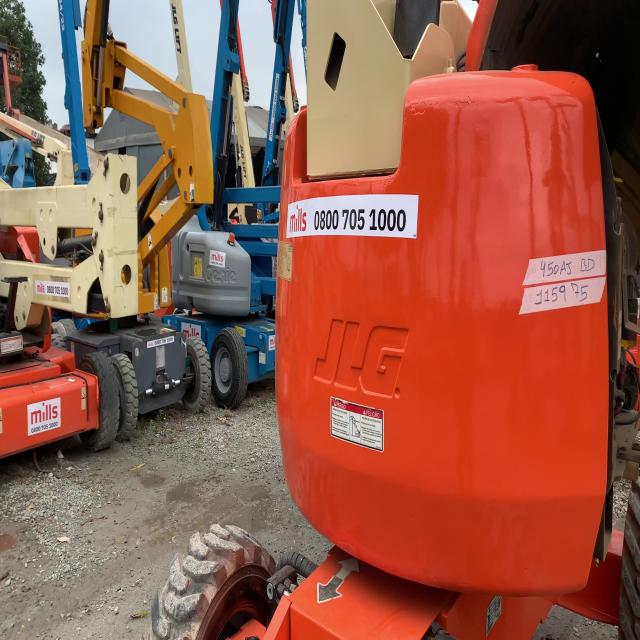Adesivo Longo: (285, 191, 420, 241), (35, 279, 71, 298), (146, 335, 174, 349)
Adesivos: (27, 396, 61, 437), (209, 248, 226, 269)
